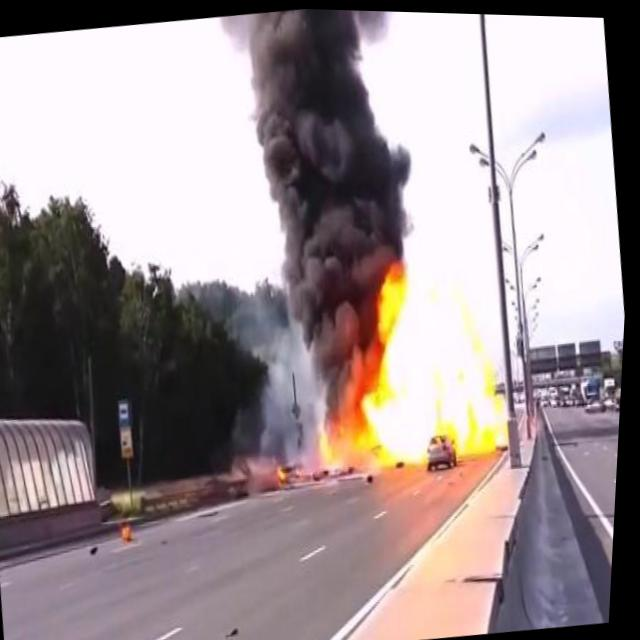fire: (341, 242, 521, 474), (315, 407, 352, 474), (275, 458, 300, 483), (125, 520, 140, 539)
